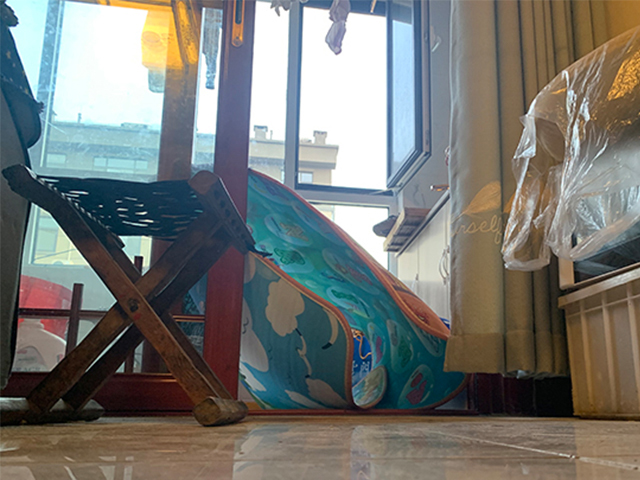curtain: (441, 1, 611, 378)
stool: (1, 163, 257, 426)
